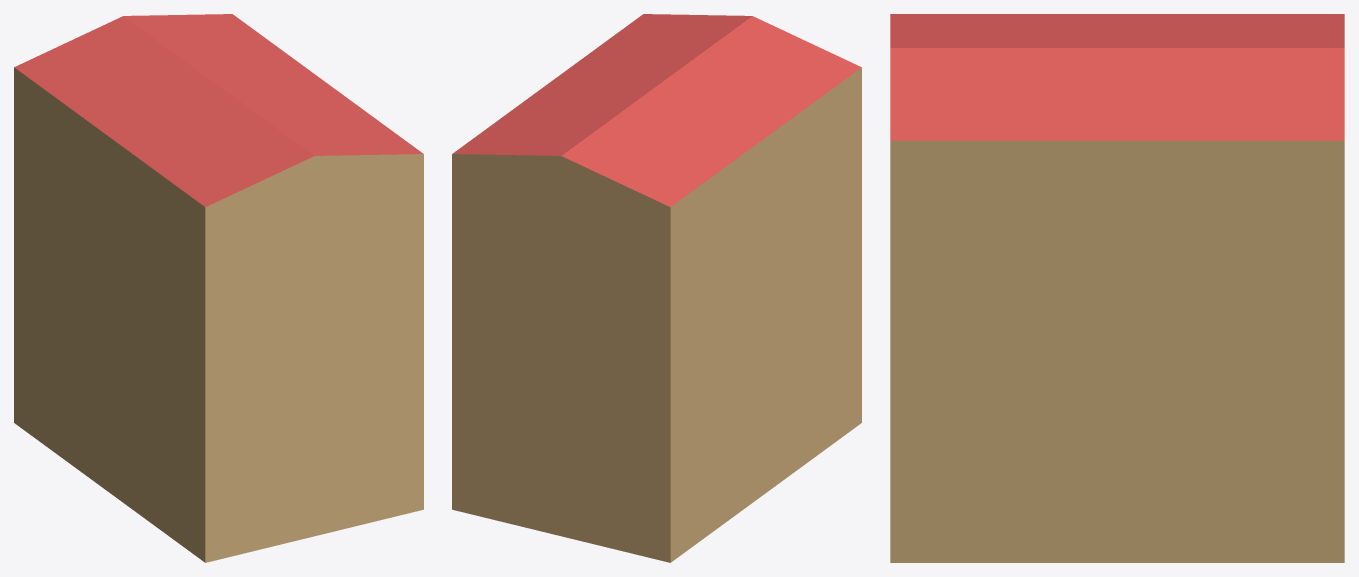
File: deptos.fbx
3 views of the same model, side by side, from view 1: azimuth 30°, elevation 25°; view 2: azimuth 150°, elevation 25°; view 3: azimuth 270°, elevation 25° (orthographic). The views are drawn at different scales.
Parts seen in each view (by area): view 1: Cube.001; view 2: Cube.001; view 3: Cube.001.
Boxes of the visible parts, x1=… form: Cube.001: x1=14, y1=14, x2=423, y2=562; Cube.001: x1=452, y1=14, x2=861, y2=562; Cube.001: x1=890, y1=14, x2=1344, y2=562.
Bounding box in the file's own units: 1680 × 2795 × 2548.
